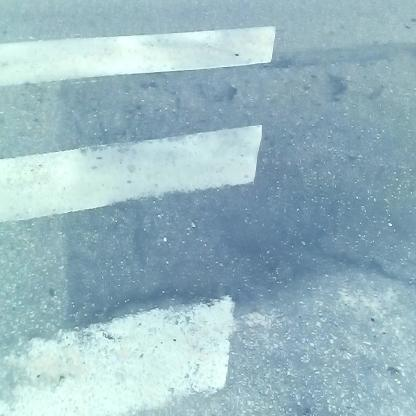crosswalk: (1, 12, 277, 393)
